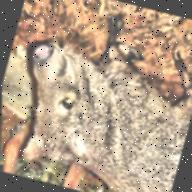boar: (0, 9, 192, 192)
